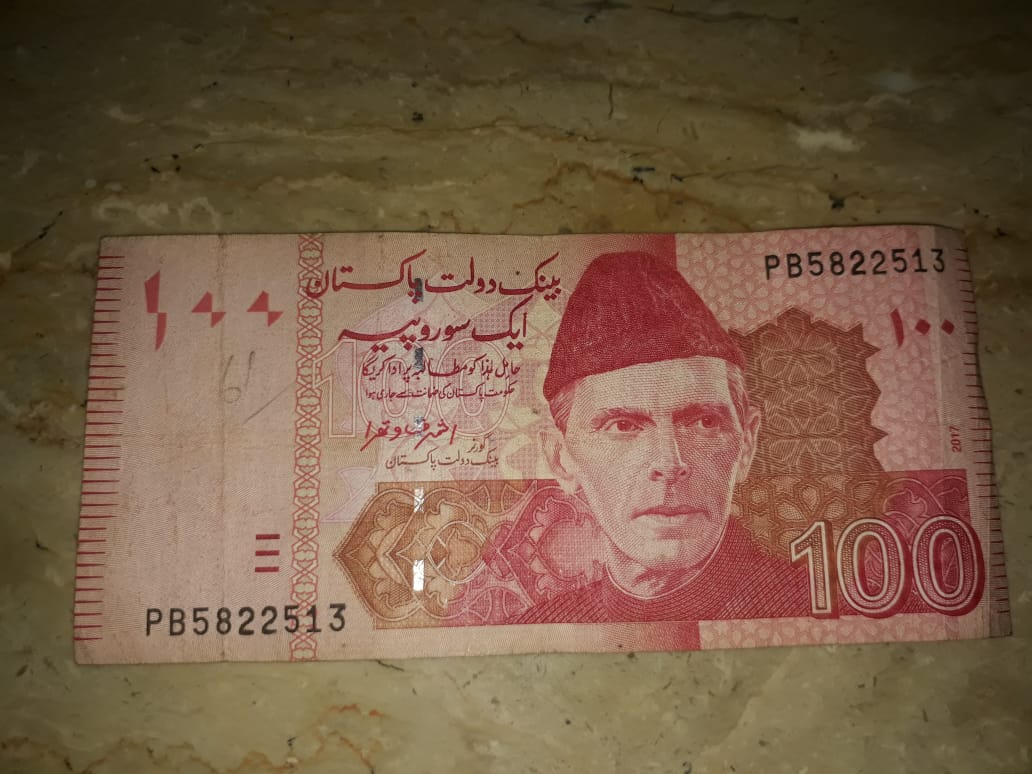100 rupee: (53, 222, 1023, 670)
